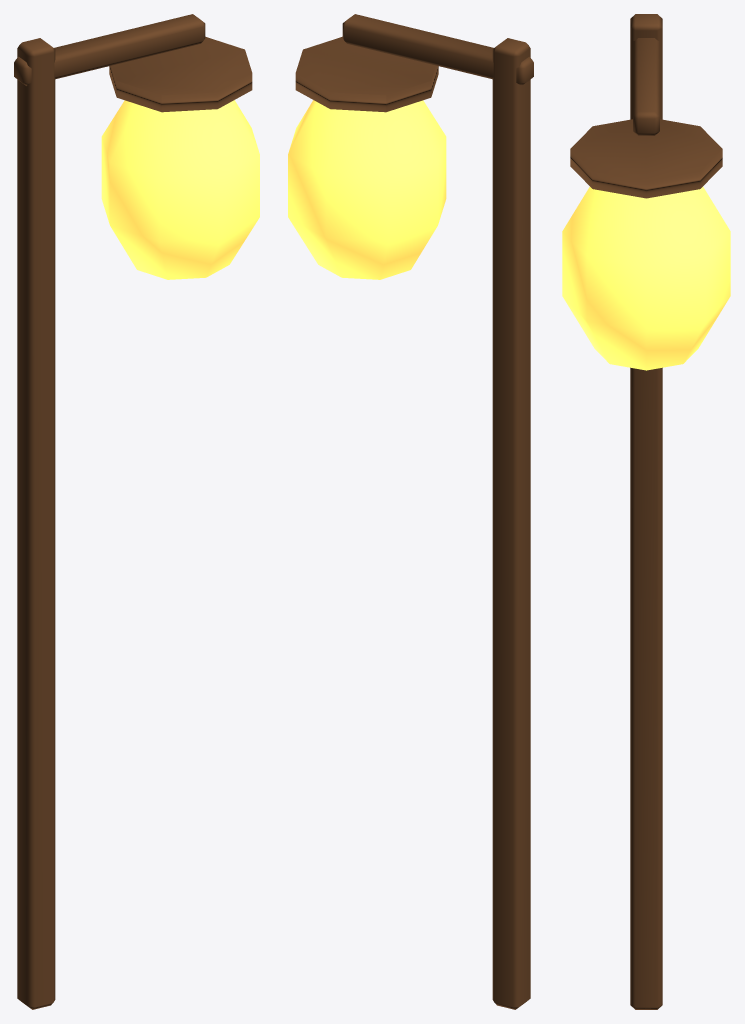
The model's file is lantern_post.glb.
3 renders of one model, left to right at view 1: azimuth 30°, elevation 25°; view 2: azimuth 150°, elevation 25°; view 3: azimuth 270°, elevation 25°, orthographic. The views are drawn at different scales.
Parts seen in each view (by area): view 1: lantern_post; view 2: lantern_post; view 3: lantern_post.
Part boxes in pixels (x1,y1,x2,y2): lantern_post: (14,14,259,1009); lantern_post: (288,14,533,1009); lantern_post: (562,14,730,1009).
Size of the model in its own units: 1.02 by 4 by 0.6182.
